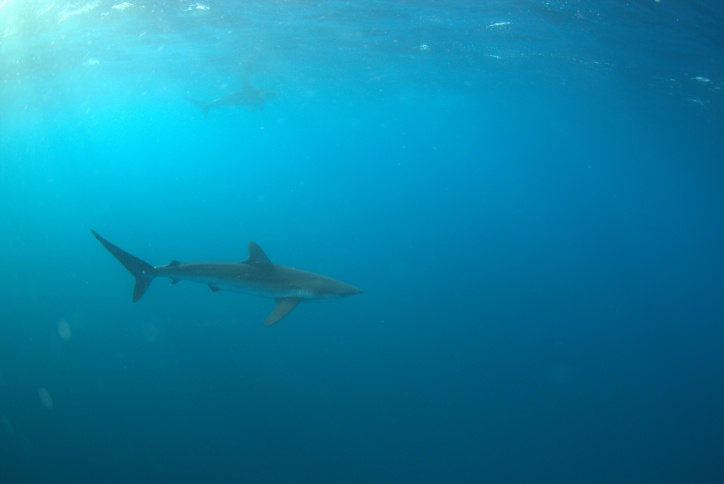Sedoso: (59, 214, 417, 339)
